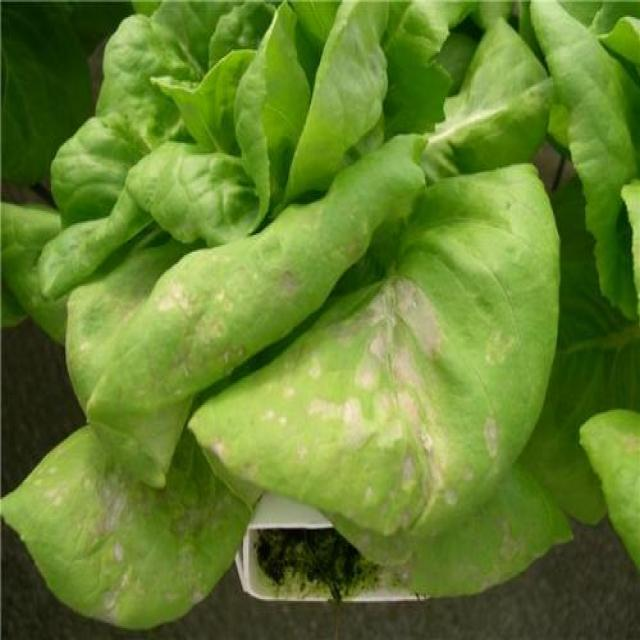Sick Lettuce: (1, 0, 639, 630), (187, 155, 563, 570)
